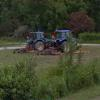Tractor: (20, 19, 80, 65)
